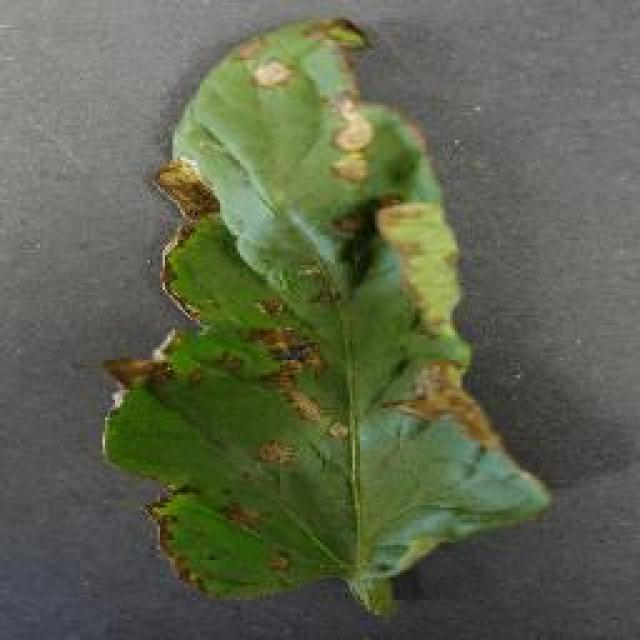bacterial spot: (98, 17, 556, 613)
